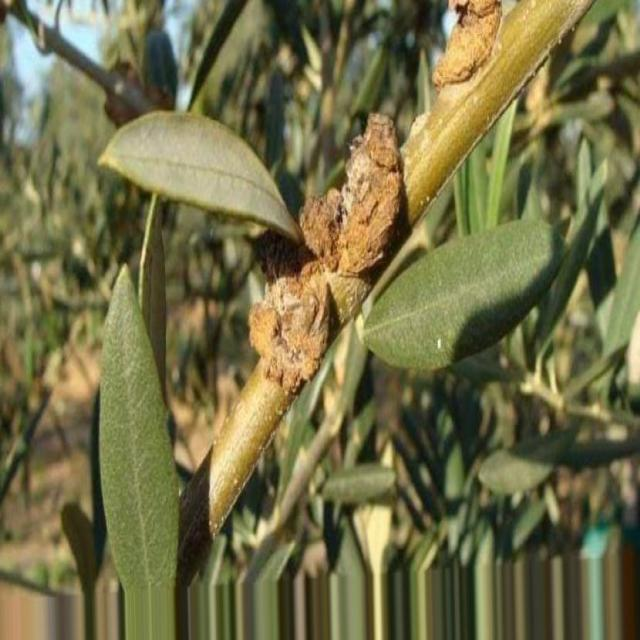Tuberculosis: (300, 114, 405, 278), (249, 268, 341, 395), (432, 0, 502, 96)
